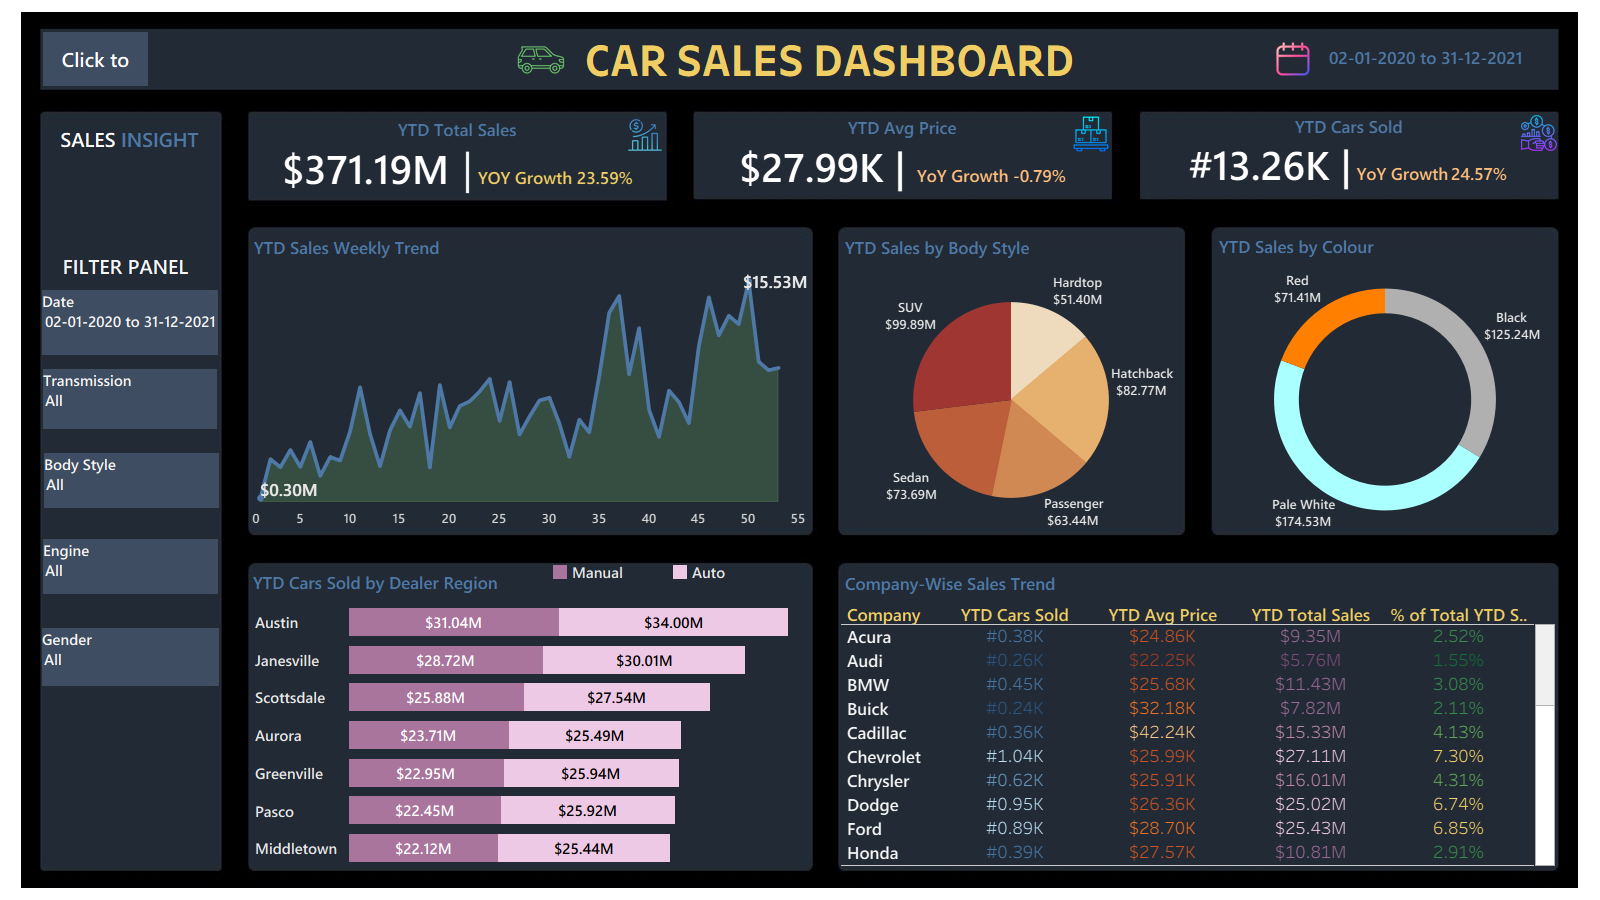

Layout of this report page (visuals, bound fields, positions):
{"tool":"tableau","page":{"name":"Dashboard 1","canvas":[1600,900],"ordinal":0},"visuals":[{"type":"image","param":"C:/Users/ASUS/Downloads/Car Sales Background.jpg","box":[8,8,1584,884]},{"type":"text","box":[581,29,497,58]},{"type":"dashboard-object","box":[43,32,105,54]},{"type":"image","param":"C:/Users/ASUS/Downloads/Car Icon.png","box":[508,32,66,55]},{"type":"worksheet","title":"Date Range","mark":"Automatic","box":[1298,32,257,52]},{"type":"image","param":"C:/Users/ASUS/Downloads/calendar.png","box":[1274,40,37,37]},{"type":"worksheet","title":"YTD Cars Sold","mark":"Automatic","box":[1142,112,414,83]},{"type":"worksheet","title":"YTD Avg Price","mark":"Automatic","box":[696,114,414,82]},{"type":"image","param":"C:/Users/ASUS/Downloads/Cars Sold Icon.png","box":[1520,114,37,37]},{"type":"image","param":"C:/Users/ASUS/Downloads/Avg Price Icon.png","box":[1072,115,37,37]},{"type":"worksheet","title":"YTD Total Sales","mark":"Automatic","box":[254,116,408,83]},{"type":"image","param":"C:/Users/ASUS/Downloads/Sales Icon.png","box":[626,116,37,37]},{"type":"text","box":[55,124,149,30]},{"type":"worksheet","title":"YTD Sales by Colour","mark":"Pie","rows":["Calculation_1857734903669407750","Calculation_1857734903669530632"],"box":[1215,229,340,303]},{"type":"worksheet","title":"YTD Sales Weekly Trend","mark":"Area","rows":["Calculation_640918578980478976","Calculation_640918578980478976"],"cols":["Date"],"box":[250,230,558,302]},{"type":"worksheet","title":"YTD Sales by Body Style","mark":"Pie","box":[841,230,340,302]},{"type":"text","box":[51,251,149,30]},{"type":"filter","title":"YTD Sales Weekly Trend","param":"[federated.0y2xxjx16p6kg216q0f2w0bh41rt].[none:Date:qk]","box":[42,290,176,65]},{"type":"filter","title":"YTD Sales Weekly Trend","param":"[federated.0y2xxjx16p6kg216q0f2w0bh41rt].[none:Transmission:nk]","box":[43,369,174,60]},{"type":"filter","title":"YTD Sales Weekly Trend","param":"[federated.0y2xxjx16p6kg216q0f2w0bh41rt].[none:Body Style:nk]","box":[44,453,175,55]},{"type":"filter","title":"YTD Sales Weekly Trend","param":"[federated.0y2xxjx16p6kg216q0f2w0bh41rt].[none:Engine:nk]","box":[43,539,175,55]},{"type":"legend","title":"YTD Cars Sold by Dealer Region","param":"[federated.0y2xxjx16p6kg216q0f2w0bh41rt].[none:Transmission:nk]","box":[550,562,253,35]},{"type":"worksheet","title":"YTD Cars Sold by Dealer Region","mark":"Automatic","rows":["Dealer_Region"],"cols":["Calculation_640918578980478976"],"box":[249,565,561,302]},{"type":"worksheet","title":"Company-Wise Sales Trend","mark":"Automatic","rows":["Company"],"box":[841,566,714,300]},{"type":"filter","title":"YTD Sales Weekly Trend","param":"[federated.0y2xxjx16p6kg216q0f2w0bh41rt].[none:Gender:nk]","box":[42,628,177,58]}]}

Visuals, with their boxes in screenshot pixels (x1, y1, x2, y2), scaled from the page's 1600x900 canvas onto the 1600x900 screenshot:
image: [x1=8, y1=8, x2=1592, y2=892]
text: [x1=581, y1=29, x2=1078, y2=87]
dashboard-object: [x1=43, y1=32, x2=148, y2=86]
image: [x1=508, y1=32, x2=574, y2=87]
"Date Range" worksheet: [x1=1298, y1=32, x2=1555, y2=84]
image: [x1=1274, y1=40, x2=1311, y2=77]
"YTD Cars Sold" worksheet: [x1=1142, y1=112, x2=1556, y2=195]
"YTD Avg Price" worksheet: [x1=696, y1=114, x2=1110, y2=196]
image: [x1=1520, y1=114, x2=1557, y2=151]
image: [x1=1072, y1=115, x2=1109, y2=152]
"YTD Total Sales" worksheet: [x1=254, y1=116, x2=662, y2=199]
image: [x1=626, y1=116, x2=663, y2=153]
text: [x1=55, y1=124, x2=204, y2=154]
"YTD Sales by Colour" worksheet (Pie marks): [x1=1215, y1=229, x2=1555, y2=532]
"YTD Sales Weekly Trend" worksheet (Area marks): [x1=250, y1=230, x2=808, y2=532]
"YTD Sales by Body Style" worksheet (Pie marks): [x1=841, y1=230, x2=1181, y2=532]
text: [x1=51, y1=251, x2=200, y2=281]
"YTD Sales Weekly Trend" filter: [x1=42, y1=290, x2=218, y2=355]
"YTD Sales Weekly Trend" filter: [x1=43, y1=369, x2=217, y2=429]
"YTD Sales Weekly Trend" filter: [x1=44, y1=453, x2=219, y2=508]
"YTD Sales Weekly Trend" filter: [x1=43, y1=539, x2=218, y2=594]
"YTD Cars Sold by Dealer Region" legend: [x1=550, y1=562, x2=803, y2=597]
"YTD Cars Sold by Dealer Region" worksheet: [x1=249, y1=565, x2=810, y2=867]
"Company-Wise Sales Trend" worksheet: [x1=841, y1=566, x2=1555, y2=866]
"YTD Sales Weekly Trend" filter: [x1=42, y1=628, x2=219, y2=686]
